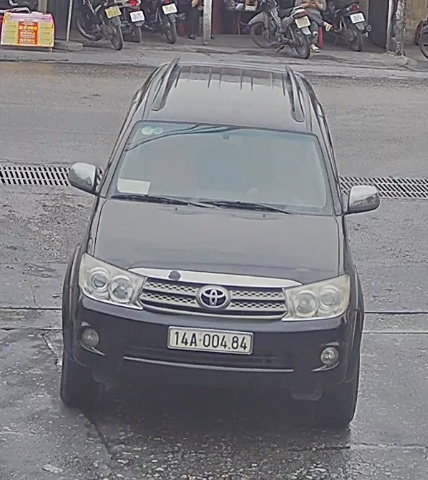vehicle plate: (162, 320, 256, 358)
